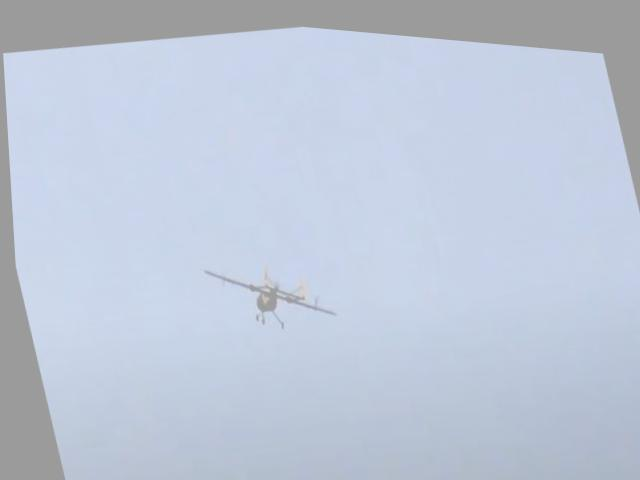iha: (189, 238, 335, 342)
